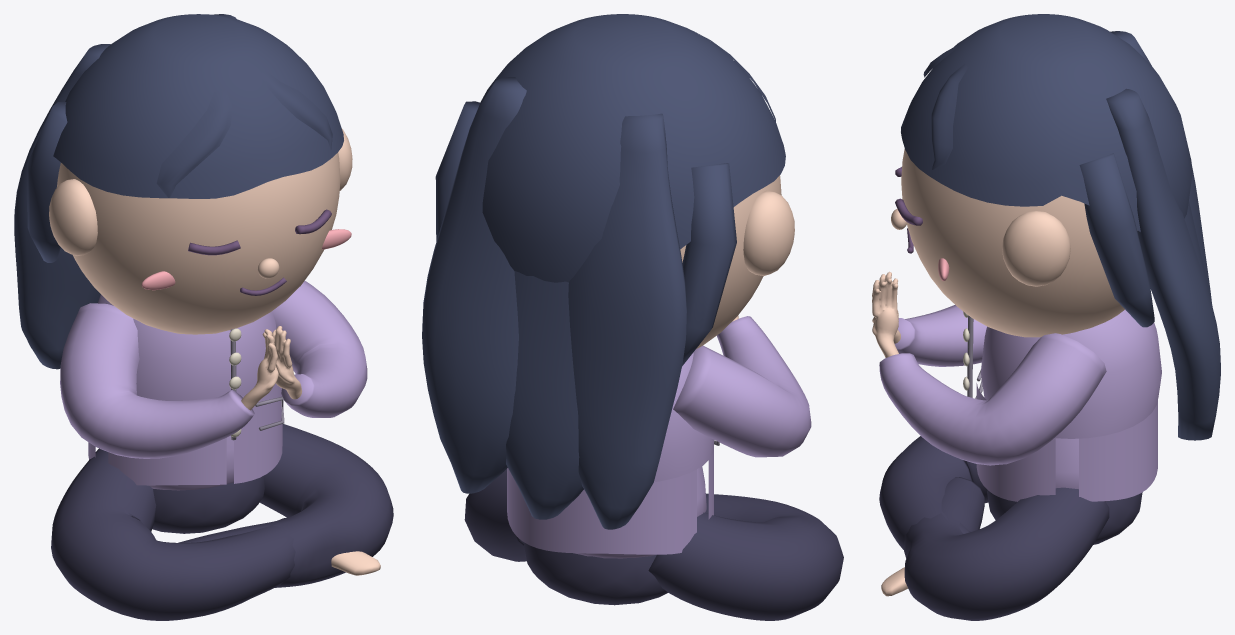
The model's file is meditator_female_cross_prayer_p05f.glb.
3 renders of one model, left to right at view 1: azimuth 30°, elevation 25°; view 2: azimuth 150°, elevation 25°; view 3: azimuth 270°, elevation 25°, orthographic. The views are drawn at different scales.
Parts seen in each view (by area): view 1: hair_blue_black_UpperBodyBreath_object, ao_ba_ba_pants_SeatRoot_object, ao_ba_ba_top_UpperBodyBreath_object, skin_rose_cream_UpperBodyBreath_object, eyes_mauve_UpperBodyBreath_object, skin_rose_cream_SeatRoot_ankle_instep_toes_p05e_object, skin_blush_UpperBodyBreath_object; view 2: hair_blue_black_UpperBodyBreath_object, ao_ba_ba_pants_SeatRoot_object, ao_ba_ba_top_UpperBodyBreath_object, skin_rose_cream_UpperBodyBreath_object; view 3: hair_blue_black_UpperBodyBreath_object, ao_ba_ba_top_UpperBodyBreath_object, ao_ba_ba_pants_SeatRoot_object, skin_rose_cream_UpperBodyBreath_object, ao_ba_ba_placket_UpperBodyBreath_object, eyes_mauve_UpperBodyBreath_object, skin_rose_cream_SeatRoot_ankle_instep_toes_p05e_object.
Part boxes in pixels (left/top/right/bottom): hair_blue_black_UpperBodyBreath_object: left=14, top=14, right=343, bottom=369; ao_ba_ba_pants_SeatRoot_object: left=51, top=424, right=393, bottom=620; ao_ba_ba_top_UpperBodyBreath_object: left=60, top=281, right=367, bottom=490; skin_rose_cream_UpperBodyBreath_object: left=49, top=129, right=352, bottom=410; eyes_mauve_UpperBodyBreath_object: left=188, top=209, right=331, bottom=295; skin_rose_cream_SeatRoot_ankle_instep_toes_p05e_object: left=331, top=551, right=380, bottom=575; skin_blush_UpperBodyBreath_object: left=141, top=229, right=351, bottom=290; hair_blue_black_UpperBodyBreath_object: left=422, top=14, right=785, bottom=529; ao_ba_ba_pants_SeatRoot_object: left=464, top=469, right=843, bottom=620; ao_ba_ba_top_UpperBodyBreath_object: left=507, top=316, right=811, bottom=558; skin_rose_cream_UpperBodyBreath_object: left=680, top=175, right=794, bottom=348; hair_blue_black_UpperBodyBreath_object: left=901, top=14, right=1220, bottom=440; ao_ba_ba_top_UpperBodyBreath_object: left=879, top=305, right=1161, bottom=501; ao_ba_ba_pants_SeatRoot_object: left=879, top=436, right=1142, bottom=620; skin_rose_cream_UpperBodyBreath_object: left=872, top=148, right=1124, bottom=357; ao_ba_ba_placket_UpperBodyBreath_object: left=967, top=316, right=982, bottom=398; eyes_mauve_UpperBodyBreath_object: left=895, top=167, right=922, bottom=253; skin_rose_cream_SeatRoot_ankle_instep_toes_p05e_object: left=881, top=567, right=907, bottom=596.
Size of the model in its own units: 0.7292 by 1.16 by 0.6886.
